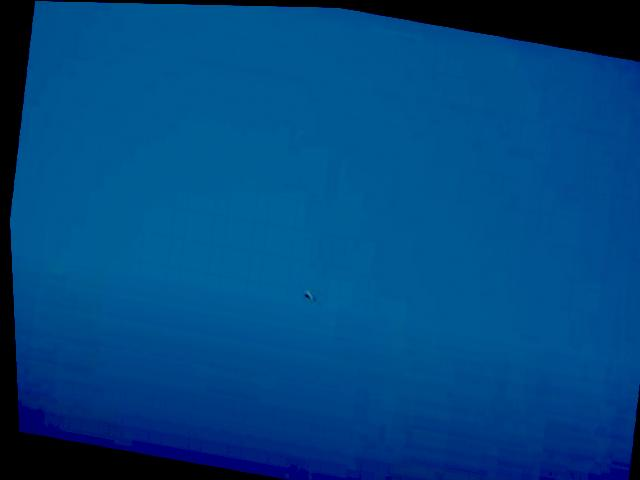iha: (299, 287, 314, 301)
